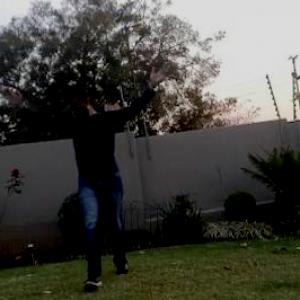takeoff: (1, 50, 165, 286)
